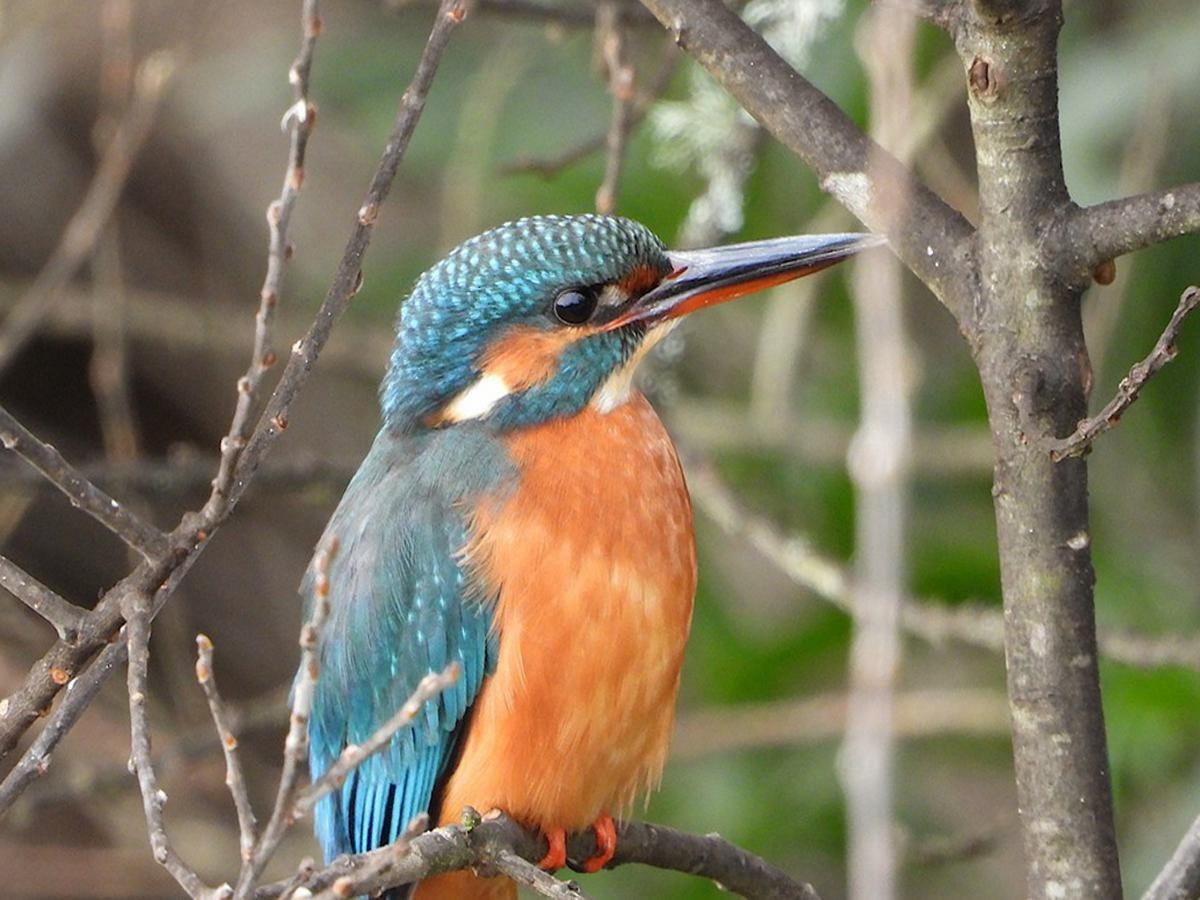kingfisher: (328, 199, 896, 900)
